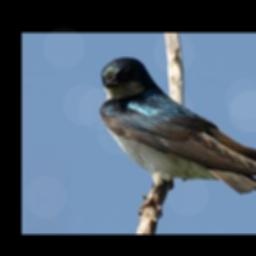Swallow: (98, 57, 256, 220)
